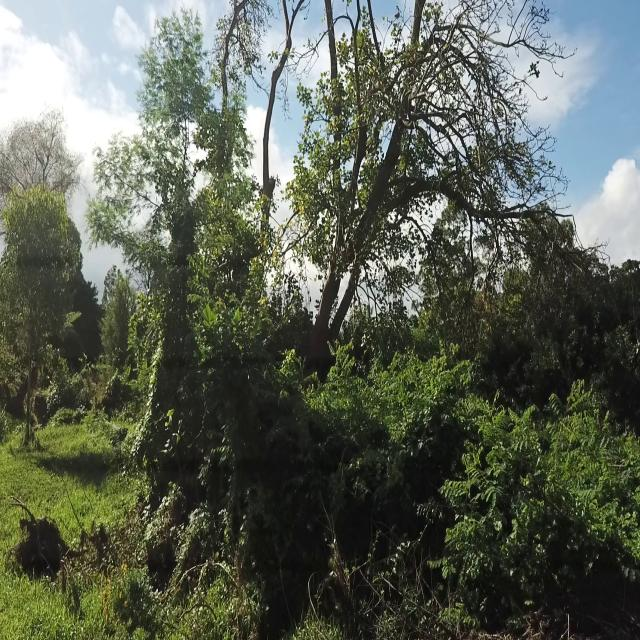Mysore-Thorn-Weed: (438, 403, 536, 573), (376, 333, 464, 431), (254, 376, 324, 464), (544, 380, 592, 500), (590, 424, 636, 533), (310, 341, 366, 426), (183, 248, 219, 343)
